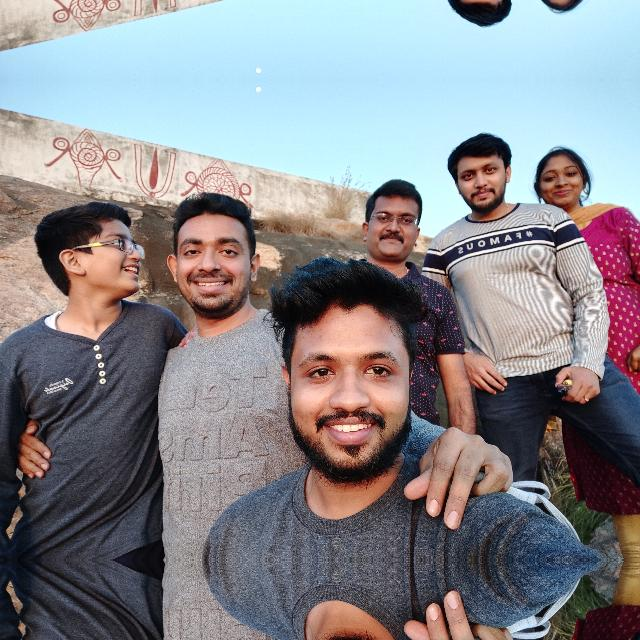person: (263, 242, 435, 544), (153, 182, 279, 352), (263, 575, 435, 640), (343, 152, 432, 272), (434, 128, 522, 246), (434, 0, 521, 32), (343, 0, 432, 7)
